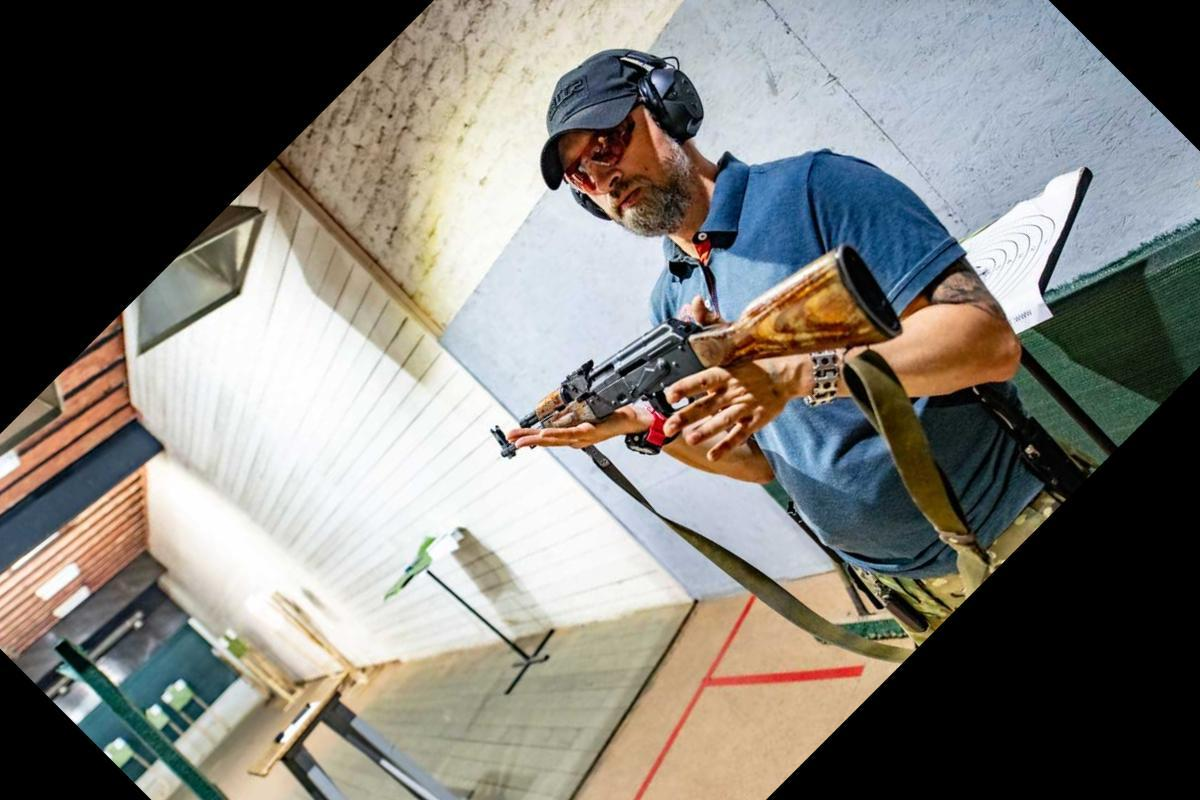larga: (487, 247, 904, 458)
